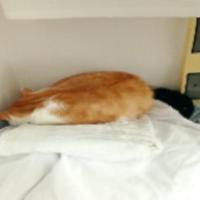asleep: (0, 68, 153, 126)
